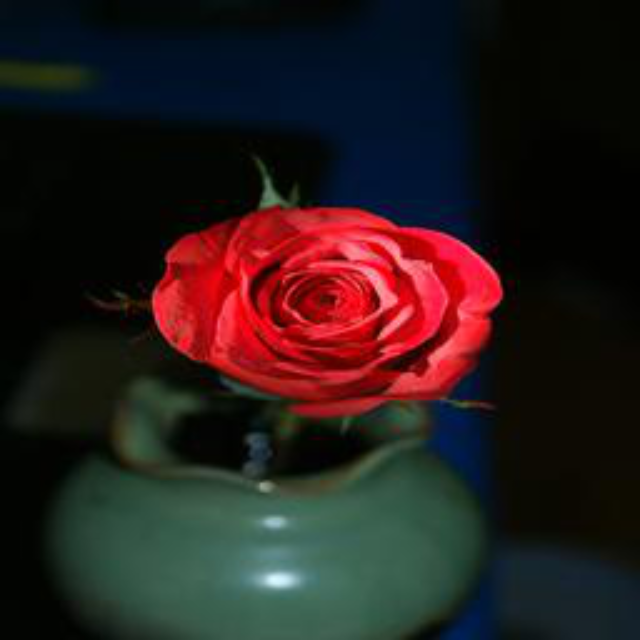rose: (146, 192, 505, 427)
